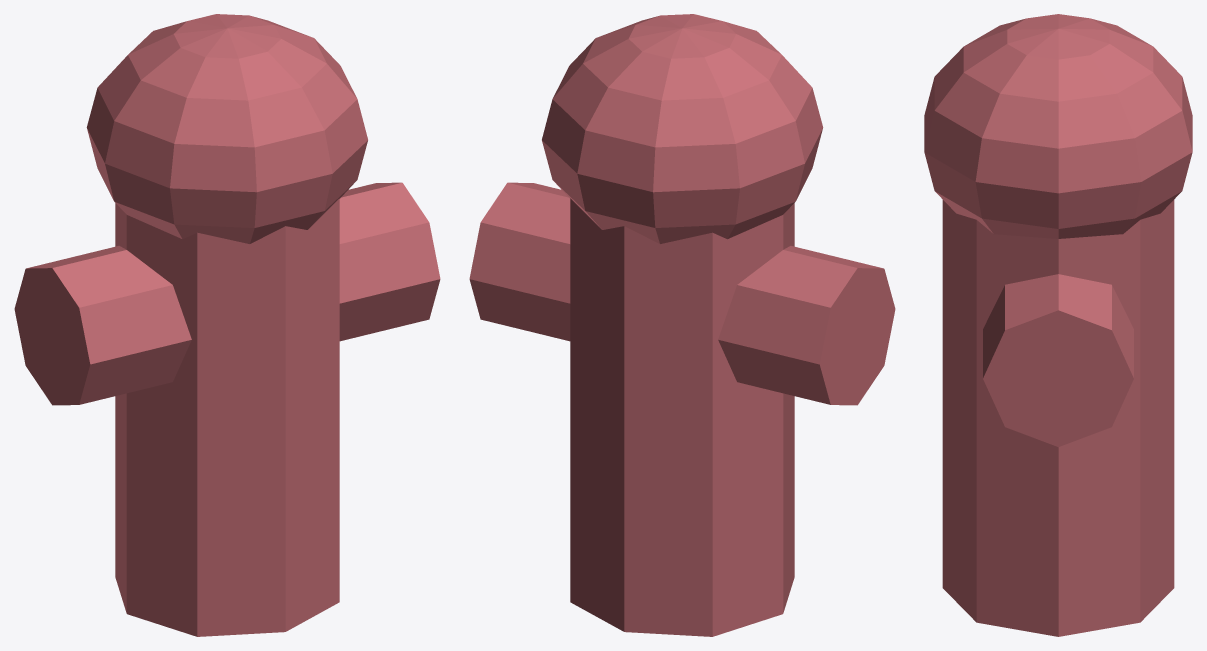
The model's file is hydrant.obj.
3 renders of one model, left to right at view 1: azimuth 30°, elevation 25°; view 2: azimuth 150°, elevation 25°; view 3: azimuth 270°, elevation 25°, orthographic.
Visible parts, largest first — view 1: hydrant; view 2: hydrant; view 3: hydrant.
Boxes of the visible parts, box(x1,y1,x2,y2) form: hydrant: box(14, 14, 440, 636); hydrant: box(469, 14, 895, 636); hydrant: box(924, 14, 1192, 636).
Size of the model in its own units: 0.8 by 1.23 by 0.5326.
